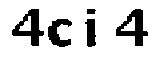4: (112, 5, 153, 53), (6, 4, 46, 47)
c: (46, 16, 78, 54)
i: (84, 3, 103, 50)
